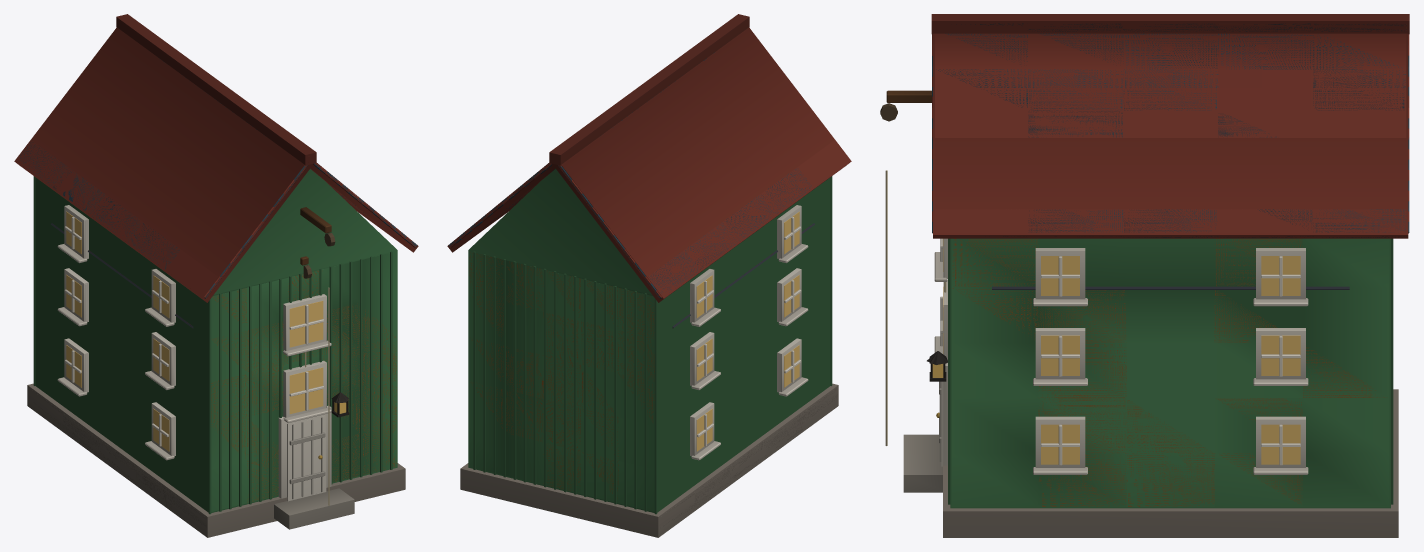
The model's file is houses-harbour.glb.
3 renders of one model, left to right at view 1: azimuth 30°, elevation 25°; view 2: azimuth 150°, elevation 25°; view 3: azimuth 270°, elevation 25°, orthographic. The views are drawn at different scales.
Visible parts, largest first — view 1: house_harbour_l0__lod, house_harbour_l0, house_harbour_l1, house_harbour_l0__glow; view 2: house_harbour_l0__lod, house_harbour_l0, house_harbour_l1, house_harbour_l0__glow; view 3: house_harbour_l0, house_harbour_l0__lod, house_harbour_l1, house_harbour_l0__glow, house_harbour_s0__lod.
Boxes of the visible parts, x1=… form: house_harbour_l0__lod: x1=14, y1=14, x2=418, y2=537; house_harbour_l0: x1=16, y1=15, x2=415, y2=535; house_harbour_l1: x1=20, y1=59, x2=416, y2=526; house_harbour_l0__glow: x1=66, y1=211, x2=346, y2=451; house_harbour_l0__lod: x1=447, y1=14, x2=851, y2=537; house_harbour_l0: x1=449, y1=15, x2=849, y2=535; house_harbour_l1: x1=449, y1=52, x2=837, y2=526; house_harbour_l0__glow: x1=696, y1=211, x2=799, y2=451; house_harbour_l0: x1=880, y1=15, x2=1409, y2=506; house_harbour_l0__lod: x1=903, y1=14, x2=1409, y2=537; house_harbour_l1: x1=932, y1=23, x2=1409, y2=506; house_harbour_l0__glow: x1=932, y1=239, x2=1300, y2=464; house_harbour_s0__lod: x1=992, y1=286, x2=1349, y2=289.
Bounding box in the file's own units: 6.46 × 10.35 × 10.81.
